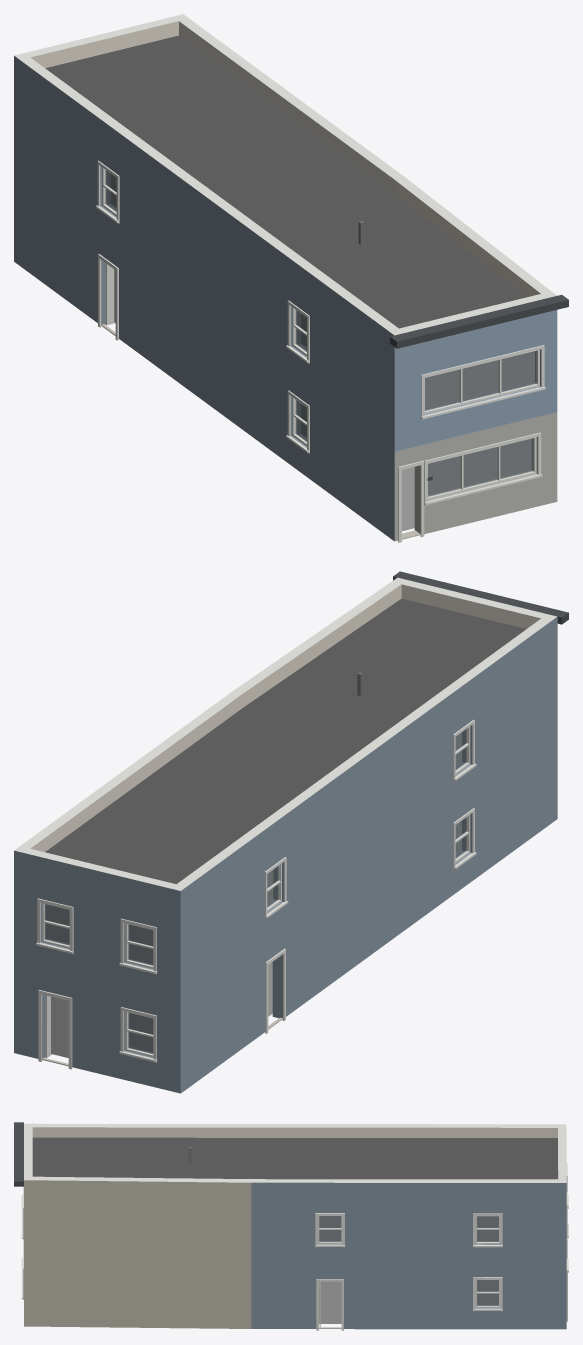
The model's file is exterior.glb.
3 views of the same model, one above another, from view 1: azimuth 30°, elevation 25°; view 2: azimuth 150°, elevation 25°; view 3: azimuth 270°, elevation 25° (orthographic). The views are drawn at different scales.
Visible parts, largest first — view 1: shell, roof, glazing, shadow-proxy, trim, frames, doors; view 2: shell, roof, trim, shadow-proxy, glazing, frames; view 3: shell, roof, shadow-proxy, trim, glazing, frames.
Boxes of the visible parts, x1,y1,x2,y2 form: shell: (14, 14, 557, 541); roof: (45, 35, 568, 348); glazing: (105, 170, 536, 496); shadow-proxy: (111, 174, 534, 531); trim: (95, 160, 545, 542); frames: (102, 167, 539, 500); doors: (101, 264, 420, 539); shell: (14, 577, 557, 1093); roof: (45, 571, 568, 884); trim: (36, 719, 476, 1069); shadow-proxy: (47, 732, 461, 1057); glazing: (45, 729, 466, 1053); frames: (41, 726, 470, 1057); shell: (24, 1123, 566, 1329); roof: (14, 1122, 557, 1186); shadow-proxy: (319, 1216, 498, 1323); trim: (21, 1163, 568, 1330); glazing: (319, 1216, 498, 1305); frames: (317, 1215, 500, 1308).
Size of the model in its own units: 5.81 by 6.7 by 22.07.
